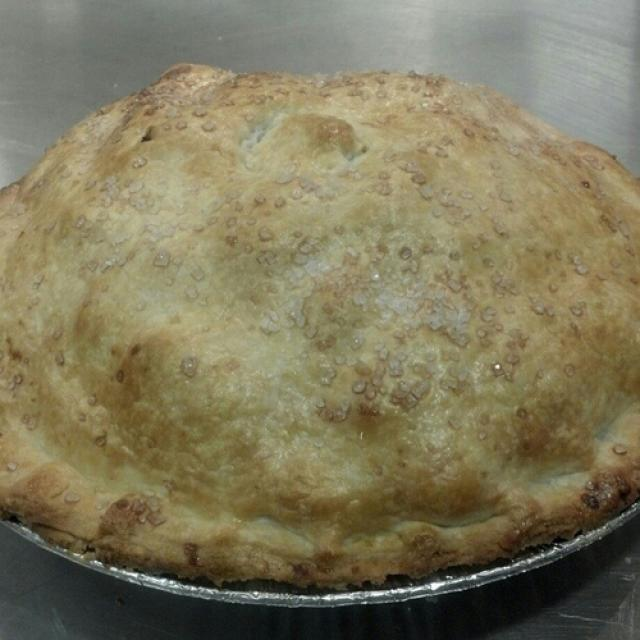Apple: (9, 68, 636, 564)
